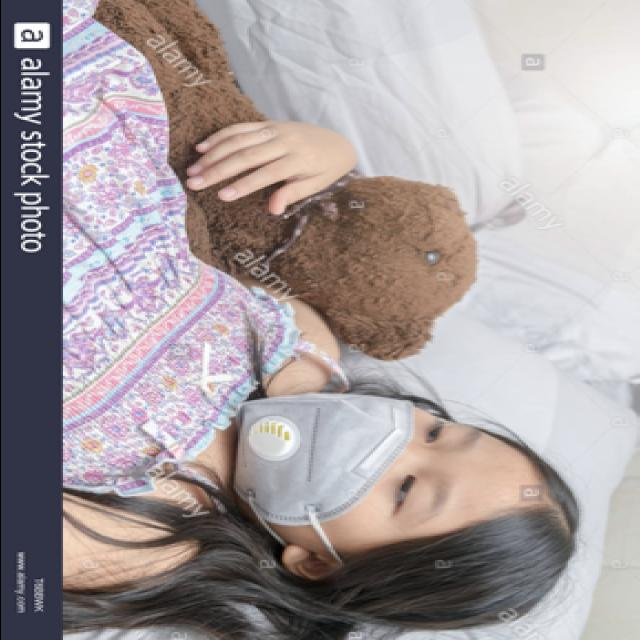mask: (237, 389, 487, 555)
